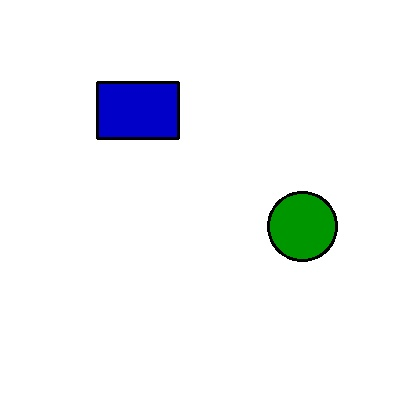circle: (268, 183, 337, 269)
rectangle: (97, 82, 178, 138)
